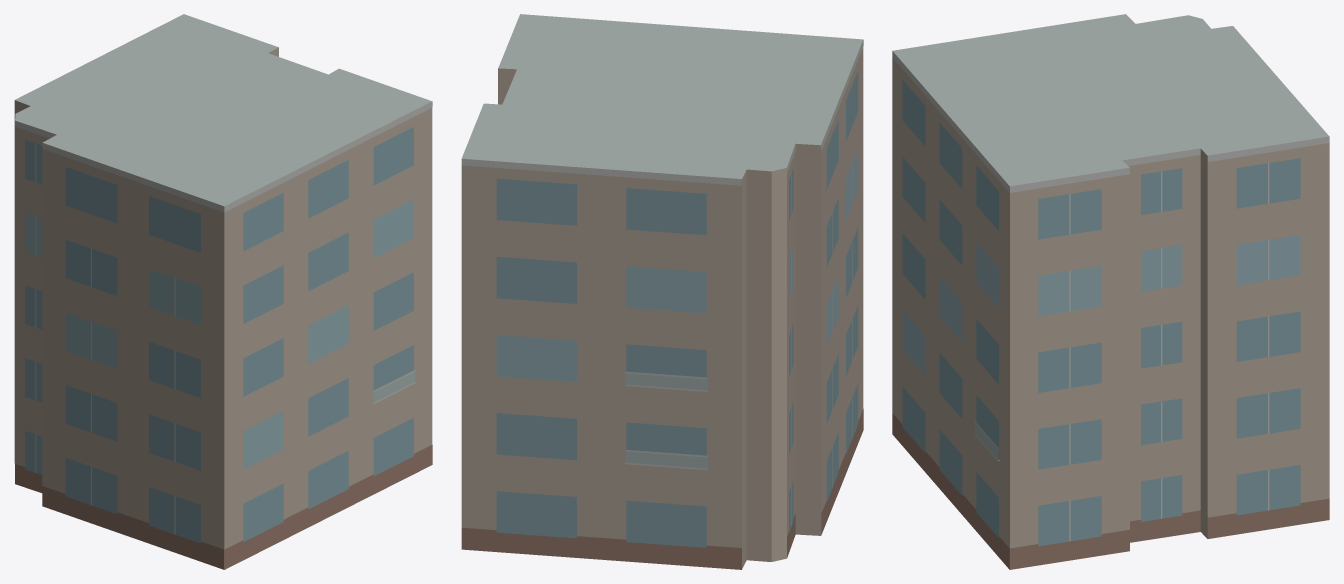
The model's file is survey-upis-32762425.glb.
3 renders of one model, left to right at view 1: azimuth 30°, elevation 25°; view 2: azimuth 150°, elevation 25°; view 3: azimuth 270°, elevation 25°, orthographic. The views are drawn at different scales.
Visible parts, largest first — view 1: survey-upis-32762425.tmp; view 2: survey-upis-32762425.tmp; view 3: survey-upis-32762425.tmp.
Part boxes in pixels (<box>): survey-upis-32762425.tmp: <box>14,14,432,569</box>; survey-upis-32762425.tmp: <box>461,14,863,569</box>; survey-upis-32762425.tmp: <box>892,14,1329,569</box>.
Bounding box in the file's own units: 13.85 × 14.35 × 14.84.
